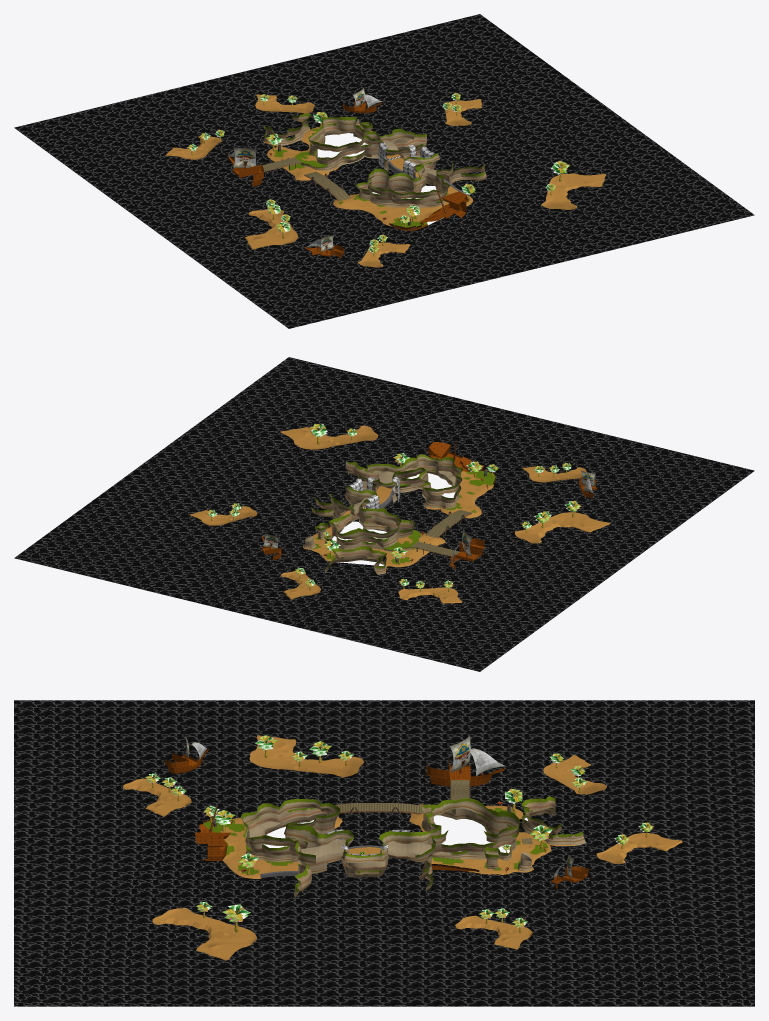
3 views of the same model, one above another, from view 1: azimuth 30°, elevation 25°; view 2: azimuth 150°, elevation 25°; view 3: azimuth 270°, elevation 25° (orthographic). The views are drawn at different scales.
Parts seen in each view (by area): view 1: a_water.001, outerroad, road1, rockgrass, rock4, rock1, rock3, outerpalmtree, boat, rock.002, rockgrass3, board (+5 smaller); view 2: a_water.001, outerroad, road1, rockgrass, rock1, rock3, rock4, outerpalmtree, rockgrass3, boat, rock.002, board (+2 smaller); view 3: a_water.001, outerroad, rockgrass, road1, rock3, outerpalmtree, rock4, rock1, boat, rockgrass3, rock.002, rock7 (+5 smaller).
Boxes of the visible parts, x1,y1,x2,y2 form: a_water.001: (14,14,754,328); outerroad: (165,94,606,267); road1: (263,127,472,226); rockgrass: (308,116,453,195); rock4: (280,119,461,204); rock1: (266,118,484,204); rock3: (310,119,453,198); outerpalmtree: (187,93,569,256); boat: (228,156,467,230); rock.002: (263,118,486,207); rockgrass3: (263,113,483,203); board: (262,133,350,200); a_water.001: (14,357,754,671); outerroad: (189,425,610,603); road1: (303,471,493,572); rockgrass: (315,454,462,536); rock1: (316,465,459,566); rock3: (317,458,460,539); rock4: (305,461,458,562); outerpalmtree: (207,423,581,591); rockgrass3: (311,462,461,569); boat: (427,442,495,569); rock.002: (303,471,459,573); board: (411,510,471,556); a_water.001: (14,700,754,1006); outerroad: (123,735,682,960); rockgrass: (241,798,519,859); road1: (222,804,574,878); rock3: (243,803,517,864); outerpalmtree: (145,735,653,932); rock4: (245,808,536,874); rock1: (245,803,561,890); boat: (195,757,505,871); rockgrass3: (246,796,583,892); rock.002: (246,809,585,898); rock7: (249,813,586,878).
Size of the model in its own units: 185291 by 13991 by 189325.
Materials: 37 (37 with a texture image).
